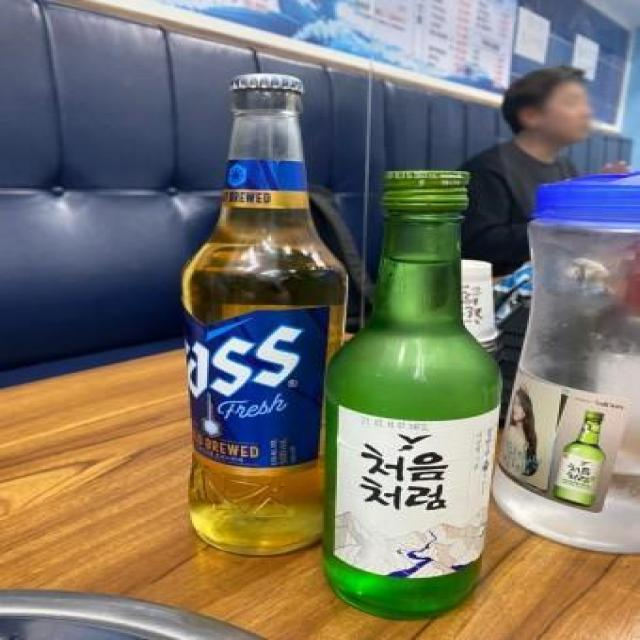beer-bottle: (178, 70, 355, 558)
soju-bottle: (320, 165, 510, 619)
